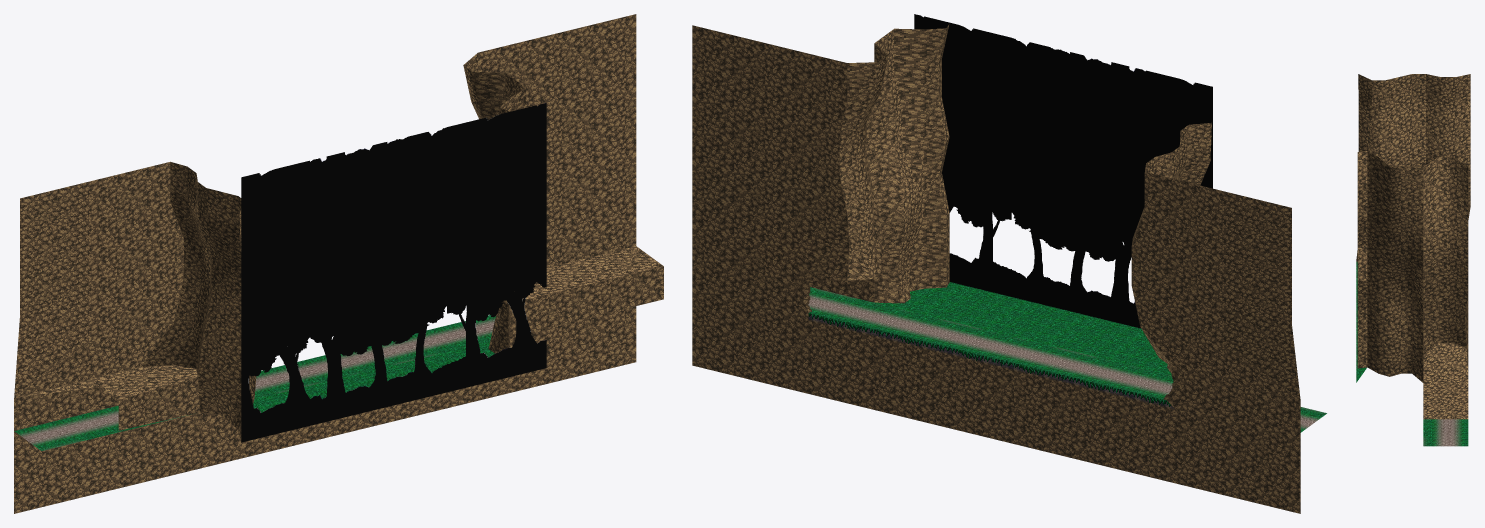
Rendered from Area2_Room20.fbx.
The picture shows the model from 3 angles, left to right: view 1: azimuth 30°, elevation 25°; view 2: azimuth 150°, elevation 25°; view 3: azimuth 270°, elevation 25°; orthographic projection. The views are drawn at different scales.
Visible parts, largest first — view 1: pCube98; view 2: pCube98; view 3: pCube98.
Boxes of the visible parts, x1=… form: pCube98: x1=14, y1=14, x2=663, y2=513; pCube98: x1=692, y1=14, x2=1326, y2=513; pCube98: x1=1356, y1=74, x2=1470, y2=446.
Size of the model in its own units: 78.55 by 42 by 15.35.
